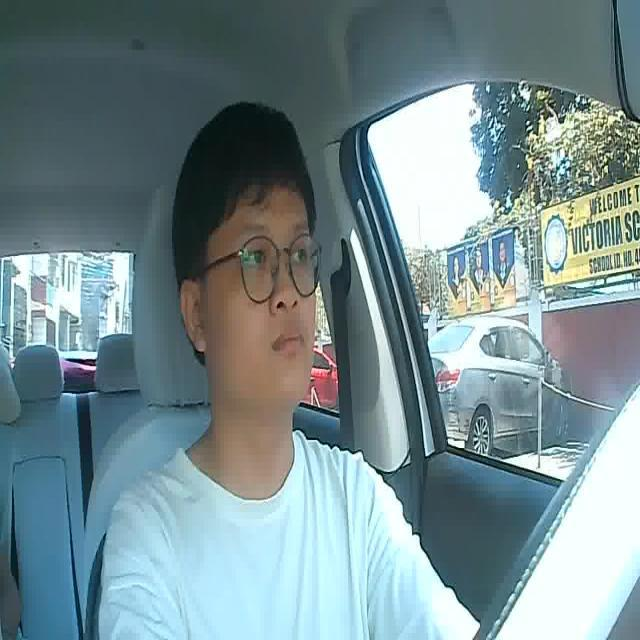Attentive: (175, 100, 323, 418)
Eye-Open: (243, 244, 276, 270), (290, 241, 314, 267)
Normal: (270, 326, 306, 361)
